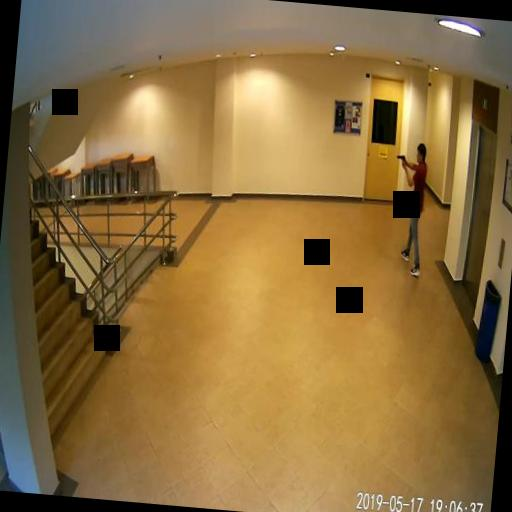Handgun: (394, 152, 404, 164)
